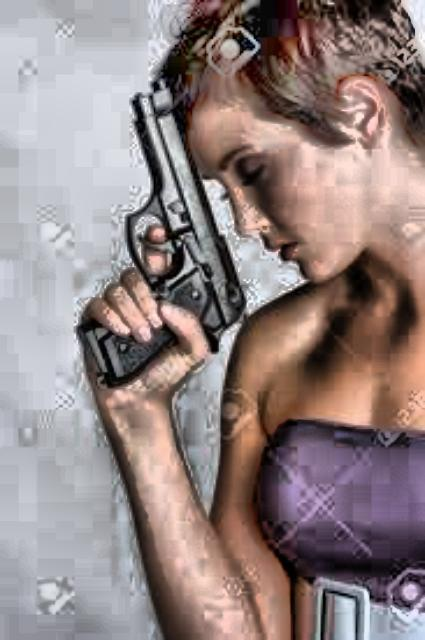pistol: (75, 74, 244, 383)
